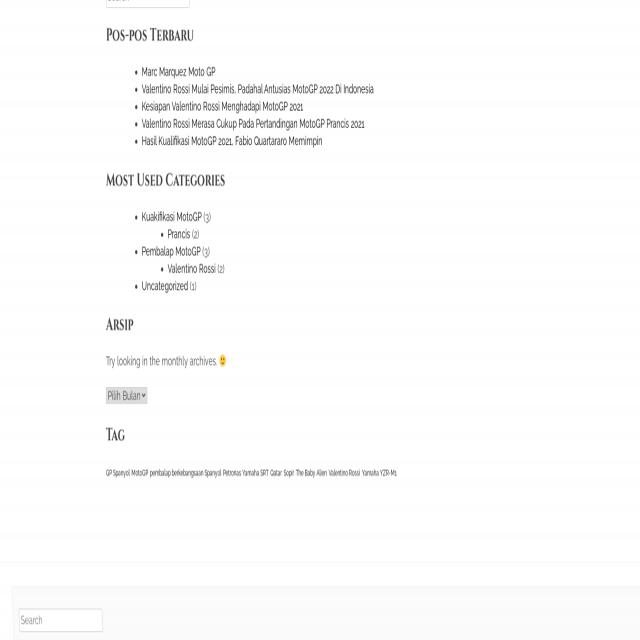button: (220, 355, 226, 366)
field: (18, 610, 102, 630), (106, 387, 148, 404)
